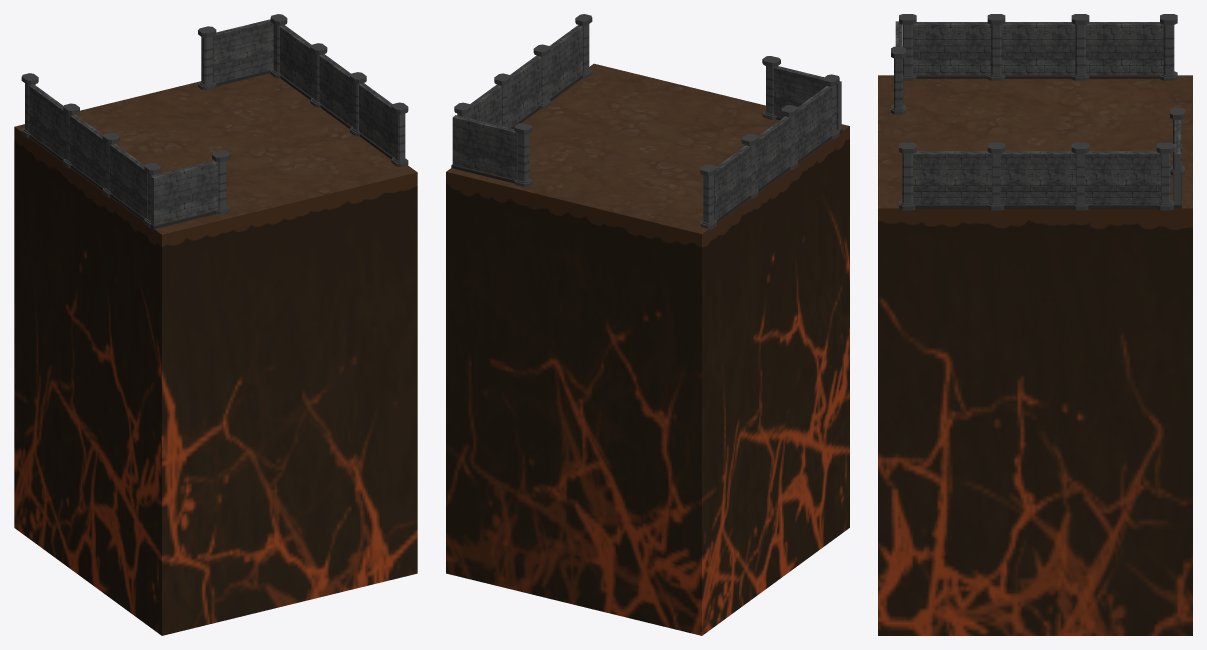
Rendered from Plataforma 1 ZigZag 2.fbx.
The picture shows the model from 3 angles, left to right: view 1: azimuth 30°, elevation 25°; view 2: azimuth 150°, elevation 25°; view 3: azimuth 270°, elevation 25°; orthographic projection. The views are drawn at different scales.
Parts seen in each view (by area): view 1: Plataforma 1.005, Muro.015, Muro.016, Muro.014, Muro.012, Muro.009, Muro.013, Muro.011, Muro.010, Pilar.018, Pilar.014, Pilar.017 (+2 smaller); view 2: Plataforma 1.005, Muro.016, Muro.014, Muro.012, Muro.013, Muro.009, Muro.015, Muro.010, Muro.011, Pilar.018, Pilar.013, Pilar.017 (+2 smaller); view 3: Plataforma 1.005, Muro.009, Muro.011, Muro.014, Muro.010, Muro.012, Muro.013, Pilar.013, Pilar.014, Pilar.010, Pilar.011, Pilar.012 (+5 smaller).
Boxes of the visible parts, bbox=[...] form: Plataforma 1.005: bbox=[14, 73, 417, 635]; Muro.015: bbox=[150, 160, 217, 229]; Muro.016: bbox=[213, 19, 273, 86]; Muro.014: bbox=[109, 144, 147, 220]; Muro.012: bbox=[29, 84, 66, 161]; Muro.009: bbox=[359, 83, 394, 159]; Muro.013: bbox=[70, 115, 105, 190]; Muro.011: bbox=[279, 25, 313, 99]; Muro.010: bbox=[319, 54, 352, 128]; Pilar.018: bbox=[198, 26, 216, 90]; Pilar.014: bbox=[391, 102, 408, 166]; Pilar.017: bbox=[212, 150, 230, 214]; Plataforma 1.005: bbox=[446, 63, 849, 635]; Muro.016: bbox=[451, 115, 517, 183]; Muro.014: bbox=[795, 86, 832, 163]; Muro.012: bbox=[714, 145, 751, 222]; Muro.013: bbox=[755, 116, 791, 191]; Muro.009: bbox=[547, 25, 582, 101]; Muro.015: bbox=[773, 66, 842, 134]; Muro.010: bbox=[508, 55, 541, 128]; Muro.011: bbox=[468, 84, 501, 126]; Pilar.018: bbox=[514, 123, 532, 186]; Pilar.013: bbox=[700, 164, 716, 229]; Pilar.017: bbox=[762, 56, 780, 119]; Plataforma 1.005: bbox=[878, 75, 1192, 635]; Muro.009: bbox=[913, 151, 992, 208]; Muro.011: bbox=[1084, 151, 1161, 208]; Muro.014: bbox=[913, 22, 990, 78]; Muro.010: bbox=[1000, 151, 1076, 208]; Muro.012: bbox=[1086, 22, 1163, 78]; Muro.013: bbox=[1001, 22, 1075, 78]; Pilar.013: bbox=[1160, 14, 1177, 80]; Pilar.014: bbox=[899, 142, 916, 210]; Pilar.010: bbox=[1071, 14, 1089, 80]; Pilar.011: bbox=[987, 14, 1005, 80]; Pilar.012: bbox=[1156, 142, 1174, 210].
Bounding box in the file's own units: 1014 × 1712 × 1000.
